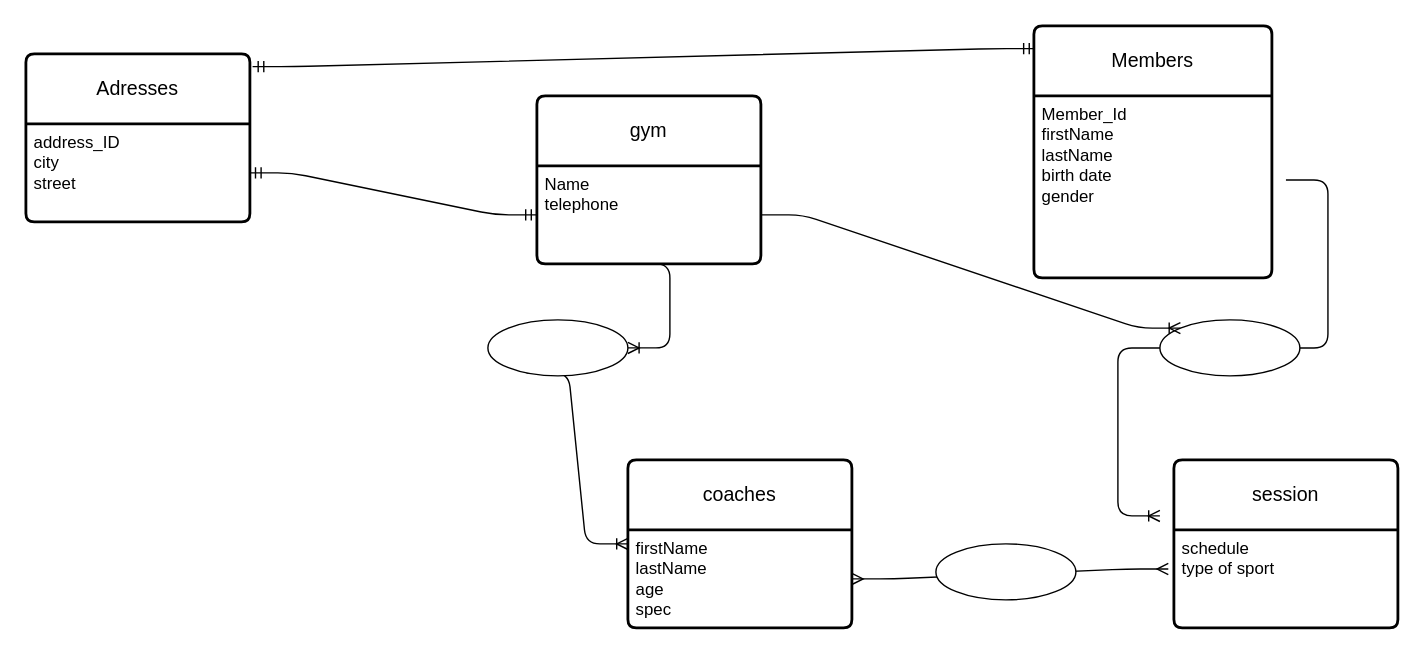
This 1422x652 diagram has some shape labels left out. The shapes that lost their labels are listed below. From the top down, each one's centre as x and y in pixels, then its label:
point 557,347: hired_at
point 1229,347: registration
point 1005,571: assigne
